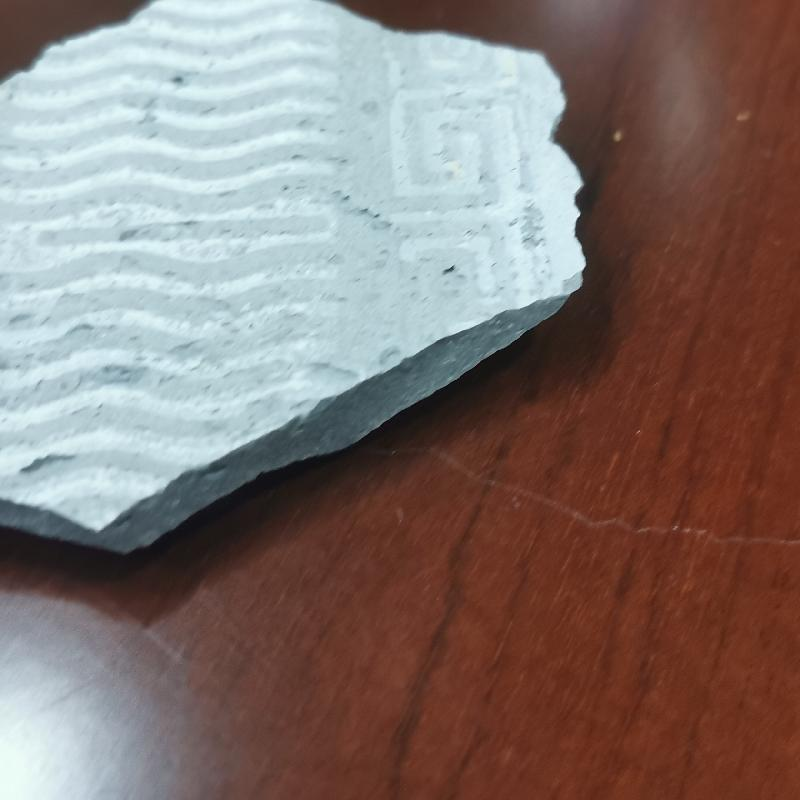tile: (0, 0, 595, 563)
